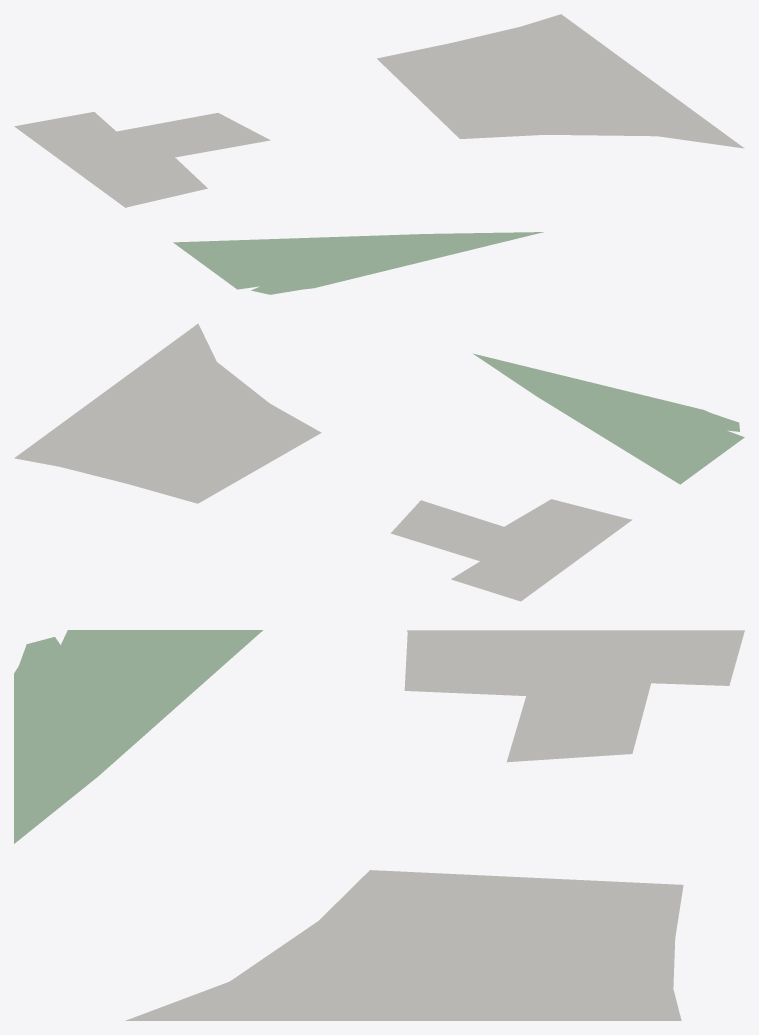
The model's file is 125_130_mid.glb.
3 renders of one model, top to bottom at view 1: azimuth 30°, elevation 25°; view 2: azimuth 150°, elevation 25°; view 3: azimuth 270°, elevation 25°, orthographic. The views are drawn at different scales.
Bounding box in the file's own units: 500 × 1.02 × 397.
